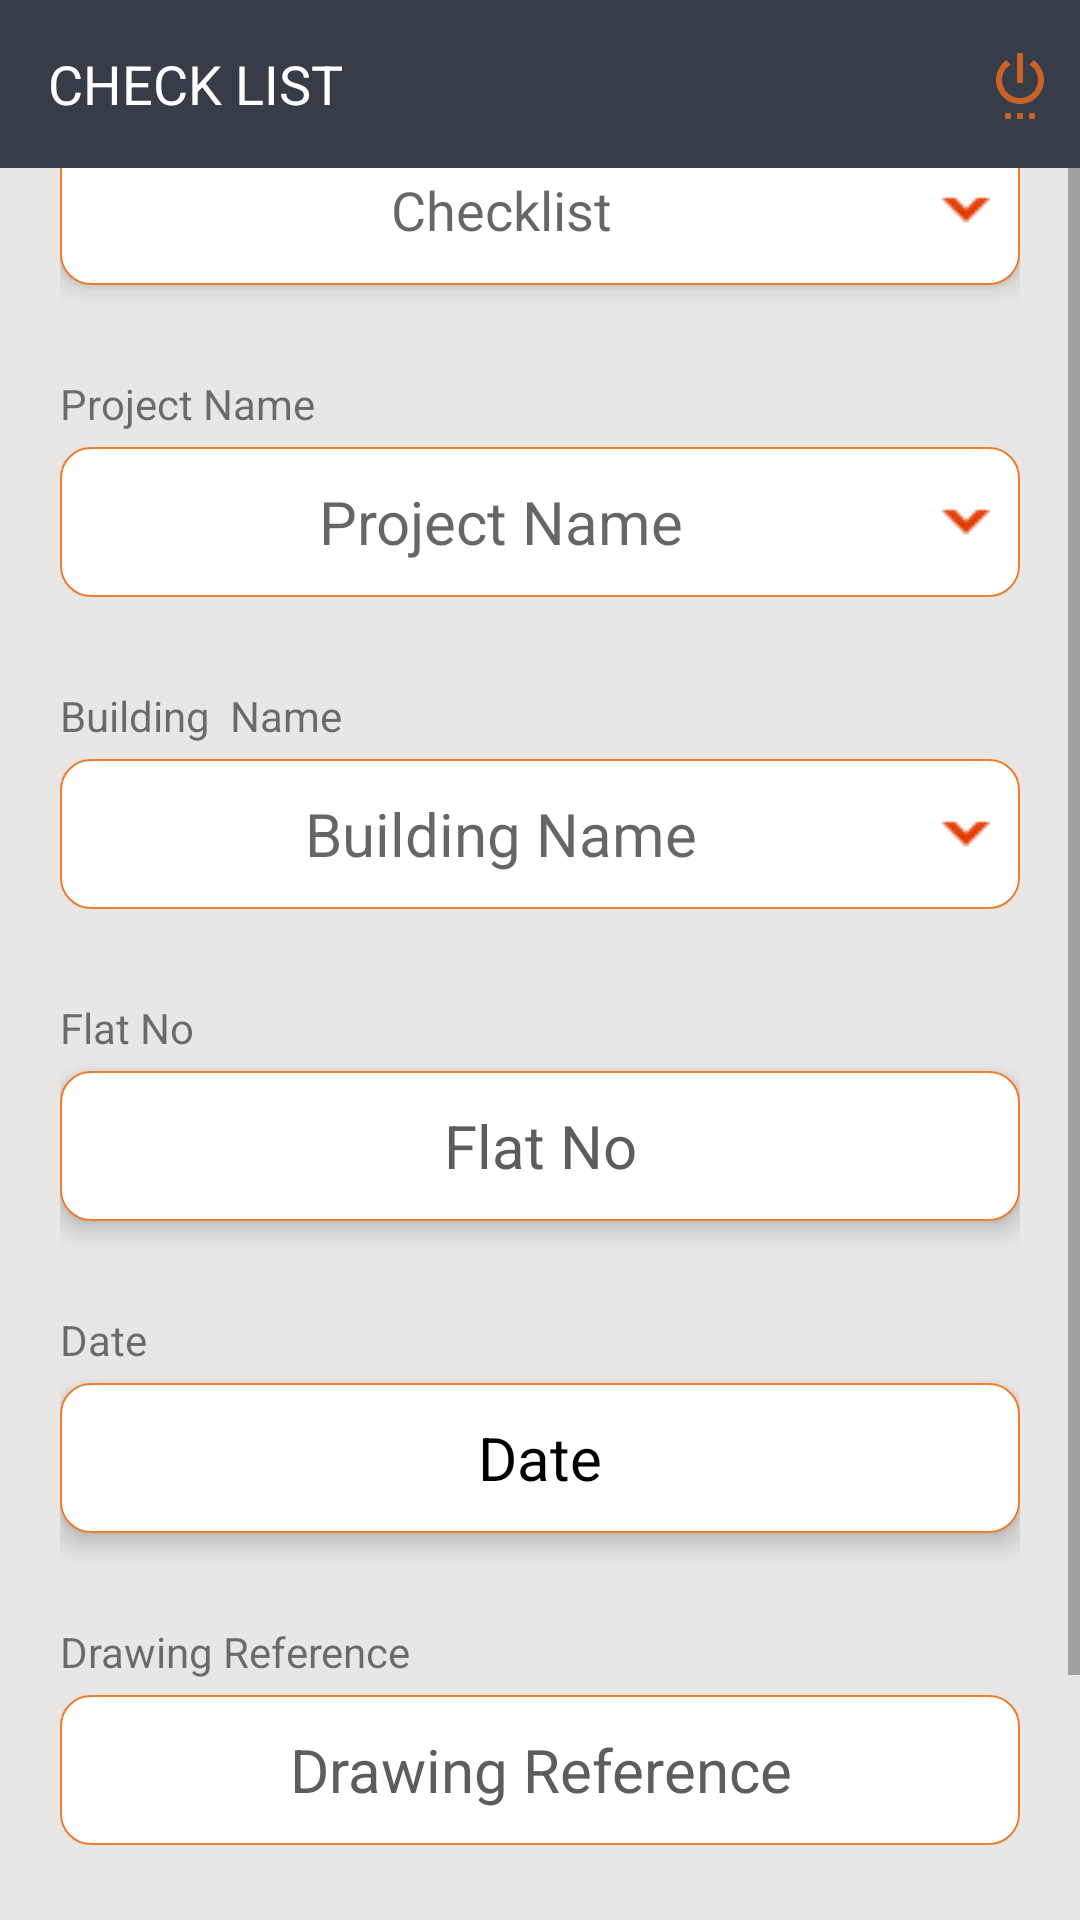

Where to tap for icons on this 1080px×1920px app screen, as point (x, y):
settings power: point (1020, 86)
